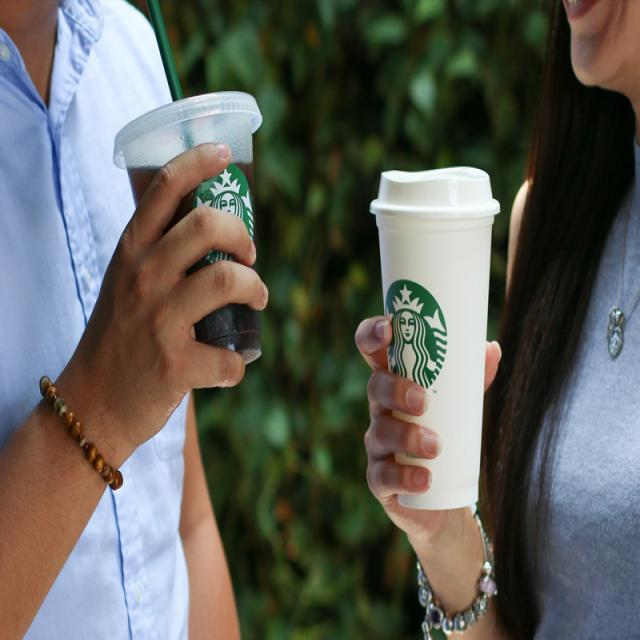cup: (370, 165, 500, 510), (113, 91, 263, 368)
